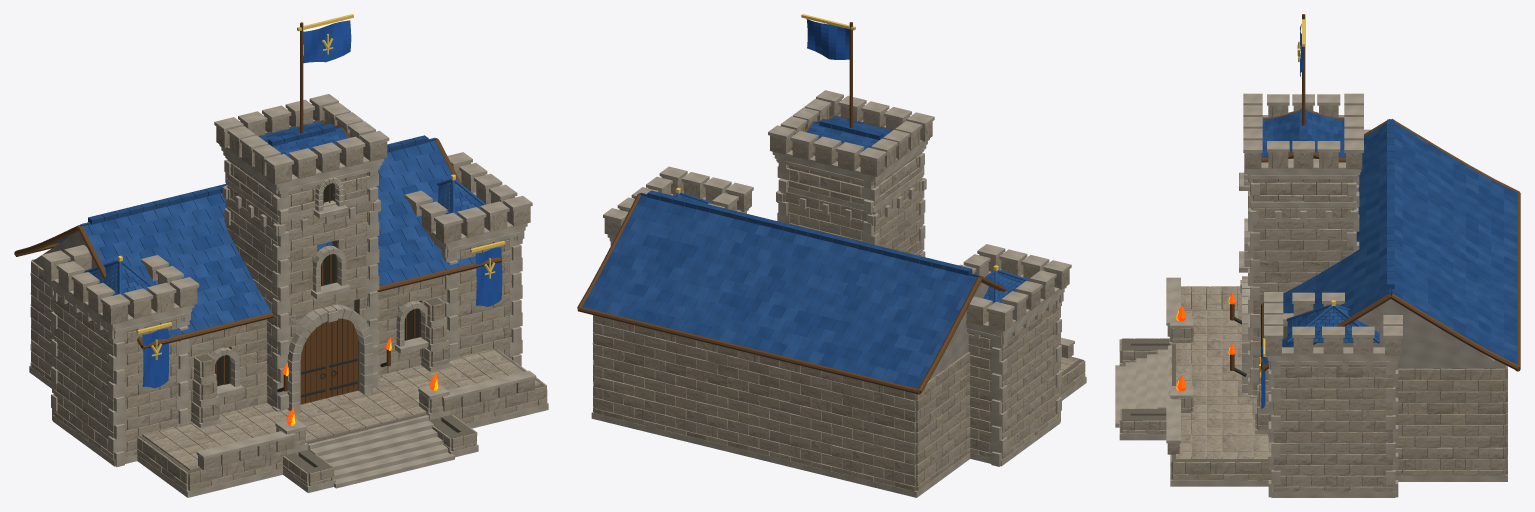
File: BastionII.glb
3 renders of one model, left to right at view 1: azimuth 30°, elevation 25°; view 2: azimuth 150°, elevation 25°; view 3: azimuth 270°, elevation 25°, orthographic. The views are drawn at different scales.
Parts seen in each view (by area): view 1: Bastion_II; view 2: Bastion_II; view 3: Bastion_II.
Part boxes in pixels (x1,y1,x2,y2): Bastion_II: (14,14,548,497); Bastion_II: (577,14,1086,497); Bastion_II: (1115,14,1520,497).
Size of the model in its own units: 21.29 by 18.42 by 17.64.
19 materials, 11 textured.
